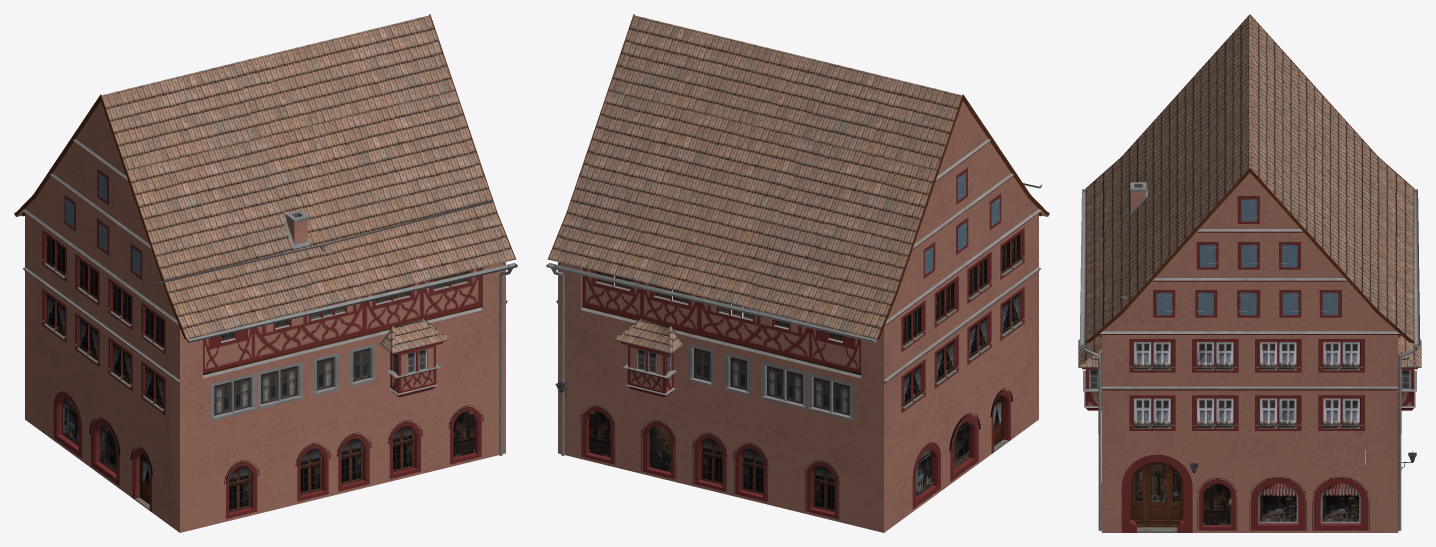
The model's file is mdl_wollo_rothenburg_3.gltf.
3 views of the same model, side by side, from view 1: azimuth 30°, elevation 25°; view 2: azimuth 150°, elevation 25°; view 3: azimuth 270°, elevation 25° (orthographic). The views are drawn at different scales.
Visible parts, largest first — view 1: Object_4, Object_2; view 2: Object_4, Object_2; view 3: Object_4, Object_2.
Boxes of the visible parts, left/top/right/bottom form: Object_4: left=15, top=14, right=516, bottom=532; Object_2: left=14, top=200, right=517, bottom=512; Object_4: left=547, top=14, right=1048, bottom=532; Object_2: left=546, top=183, right=1049, bottom=512; Object_4: left=1078, top=14, right=1421, bottom=532; Object_2: left=1079, top=189, right=1420, bottom=530.
Size of the model in its own units: 18.57 by 19.06 by 16.22.
Materials: 1 (1 with a texture image).
